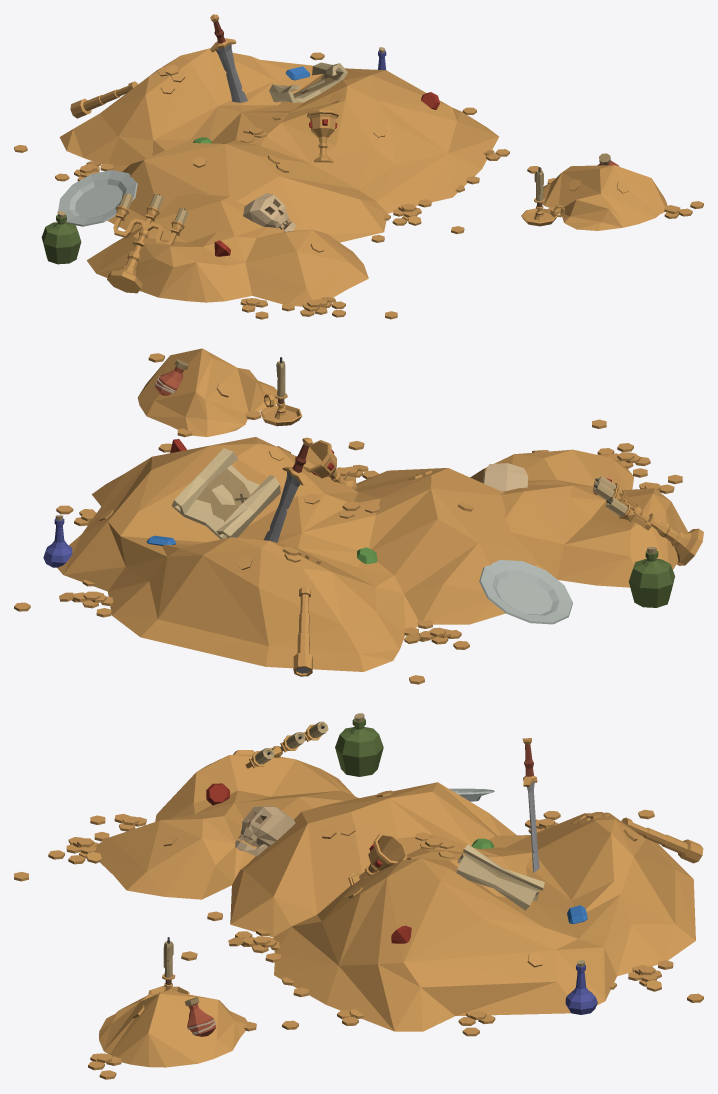
Rendered from SM_Prop_TreasurePile_04.glb.
3 views of the same model, one above another, from view 1: azimuth 30°, elevation 25°; view 2: azimuth 150°, elevation 25°; view 3: azimuth 270°, elevation 25° (orthographic). The views are drawn at different scales.
Visible parts, largest first — view 1: SM_Prop_TreasurePile_04_part00; view 2: SM_Prop_TreasurePile_04_part00; view 3: SM_Prop_TreasurePile_04_part00.
Part boxes in pixels (x1,y1,x2,y2): SM_Prop_TreasurePile_04_part00: (14, 14, 703, 319); SM_Prop_TreasurePile_04_part00: (14, 348, 703, 684); SM_Prop_TreasurePile_04_part00: (14, 713, 703, 1079).
Bounding box in the file's own units: 3.74 × 0.9557 × 3.4.
Materials: 1 (1 with a texture image).
